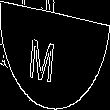M_N: (40, 26, 70, 84)
